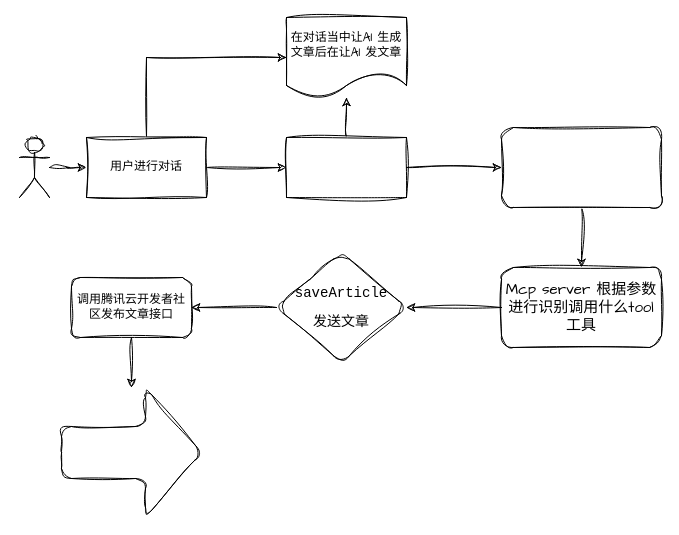
Some shapes in this 679 by 535 pixel diagram are drawn without their labels. The shapes that lost their labels are listed below. From the top down, each one's centre as x and y in pixels, then its label:
the point at 34,167: Actor
the point at 346,167: 用户指定要发布的文章
the point at 581,167: 大模型调用MCP Server 携带参数
